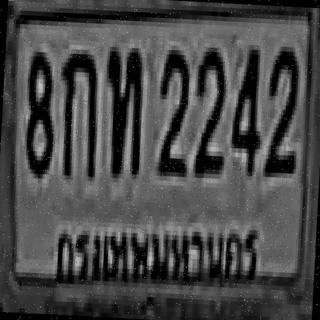A01: (56, 49, 99, 177)
A23: (102, 42, 143, 175)
N02: (191, 42, 226, 174), (264, 42, 299, 174), (154, 45, 189, 172)
N04: (228, 40, 263, 172)
N08: (23, 47, 56, 174)
P04: (44, 203, 267, 299)
